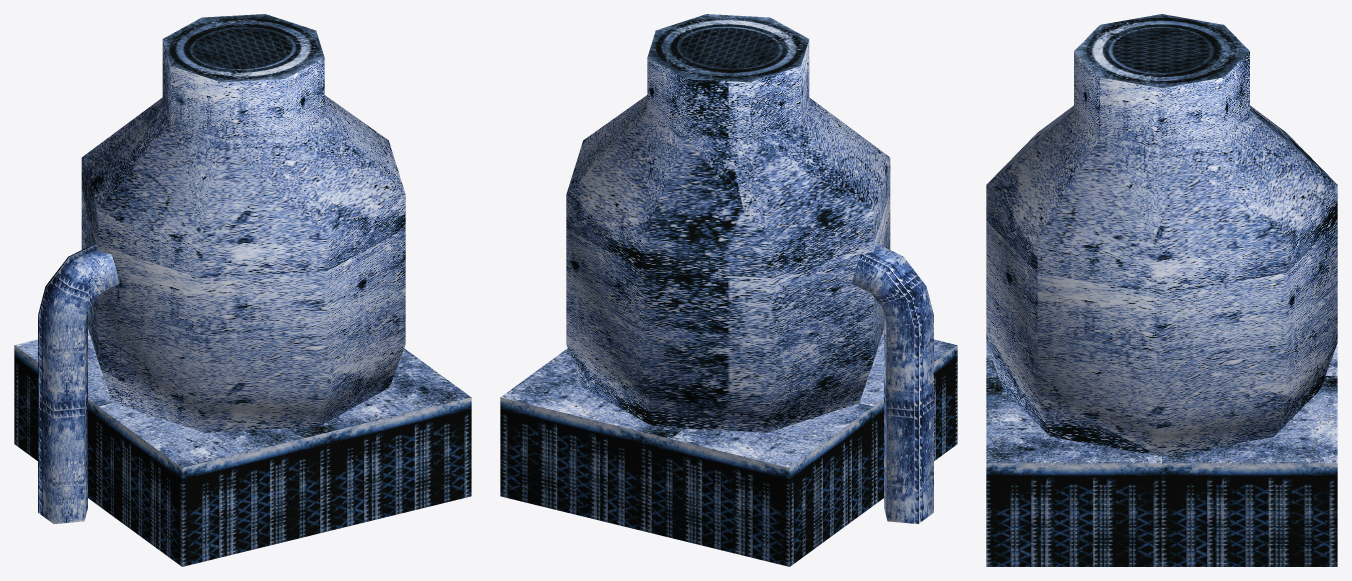
The model's file is Water Drain.fbx.
3 views of the same model, side by side, from view 1: azimuth 30°, elevation 25°; view 2: azimuth 150°, elevation 25°; view 3: azimuth 270°, elevation 25° (orthographic). The views are drawn at different scales.
Visible parts, largest first — view 1: object_3, object_2, object_5; view 2: object_3, object_2, object_5; view 3: object_3, object_2.
Boxes of the visible parts, bbox=[...] form: object_3: bbox=[81, 14, 405, 432]; object_2: bbox=[14, 329, 471, 566]; object_5: bbox=[38, 243, 119, 523]; object_3: bbox=[566, 14, 890, 432]; object_2: bbox=[500, 329, 957, 566]; object_5: bbox=[852, 243, 933, 523]; object_3: bbox=[986, 14, 1337, 456]; object_2: bbox=[986, 343, 1337, 566].
Size of the model in its own units: 295 by 347 by 250.
